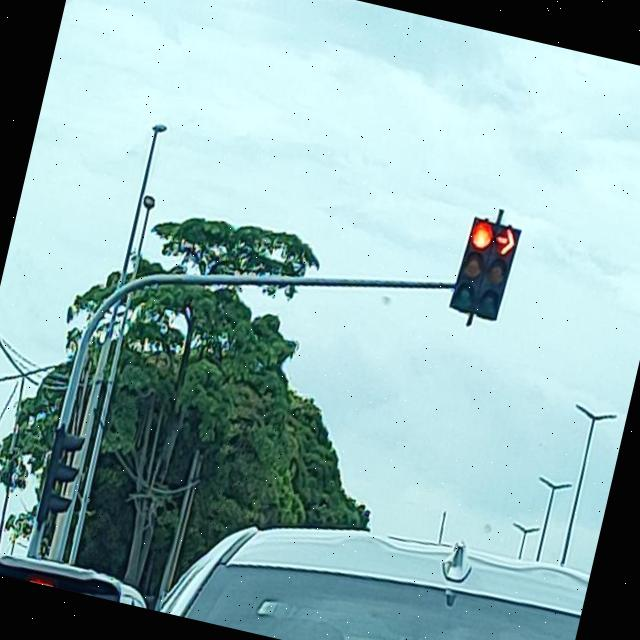red_light: (448, 214, 498, 314), (474, 224, 521, 322)
